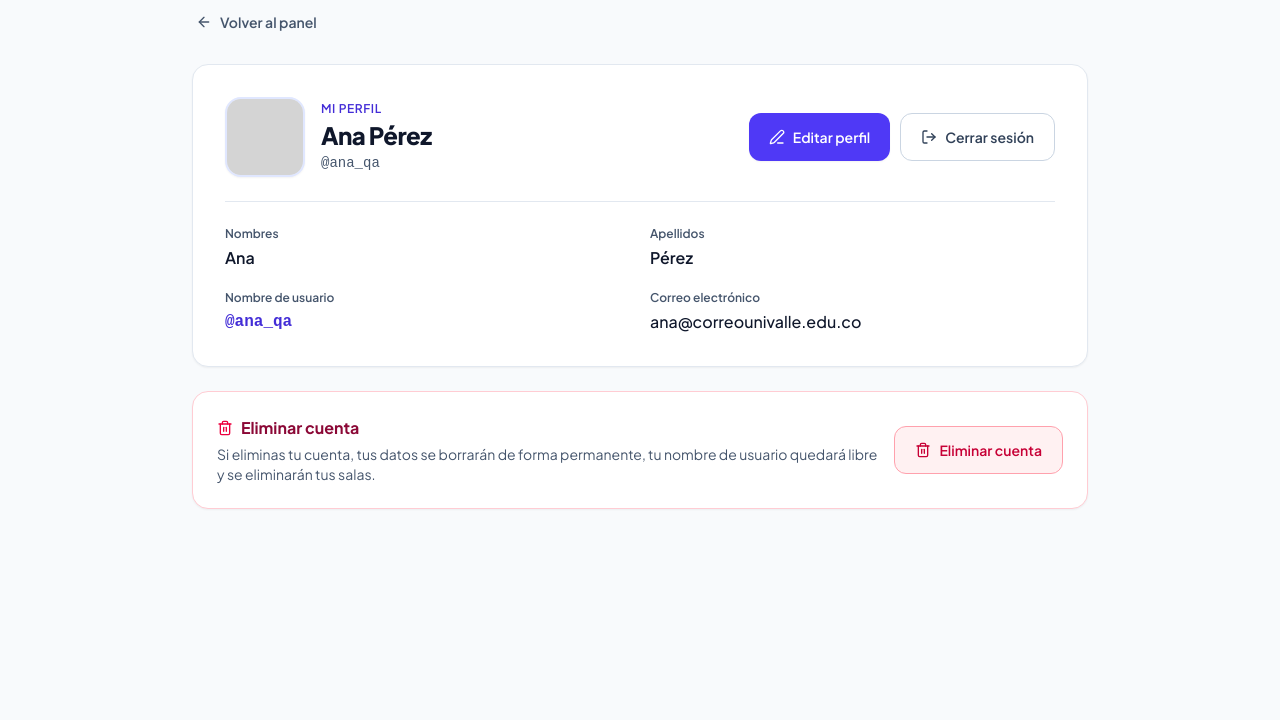
Test: US-04 | E1 | edición exitosa › al cambiar el correo renueva el token de la sesión
Click the button "Editar perfil". click: (820, 137)
box: [749,113,890,161]
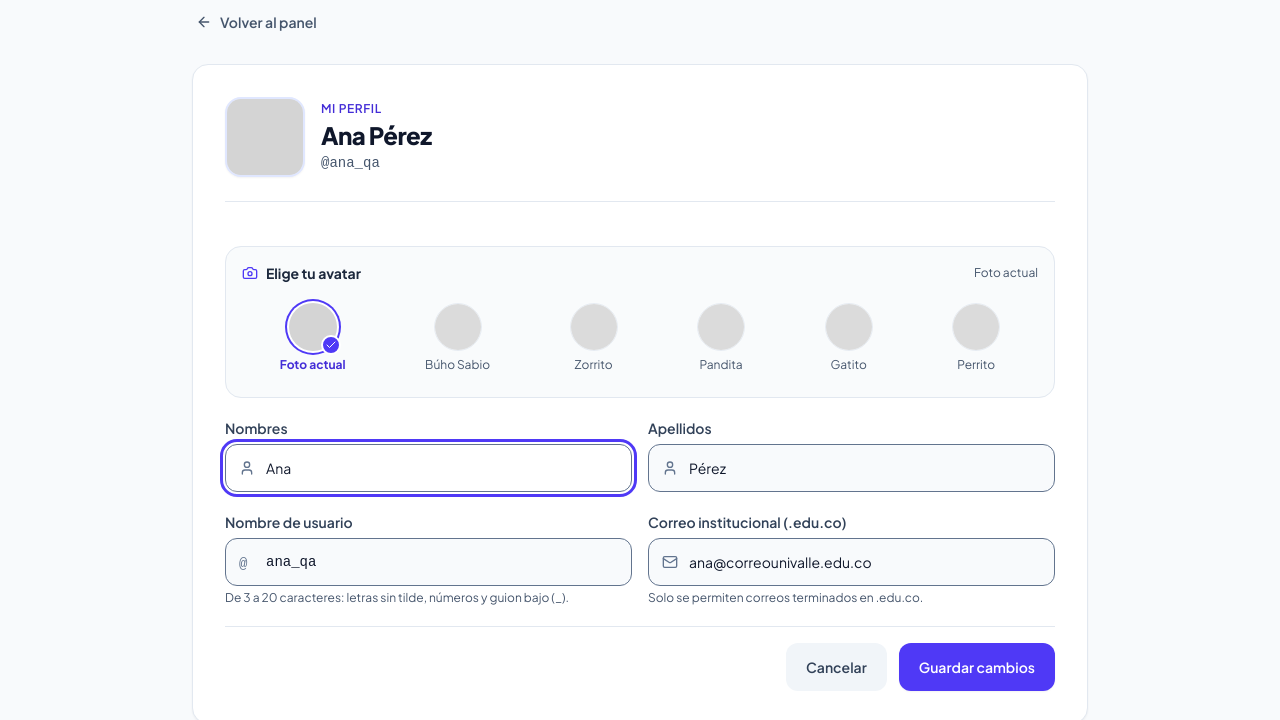
Replace the text in the field labelled "Correo institucional (.edu.co)" with "Ana.Nueva@correounivalle.edu.co". click: (852, 562)
box: [648,538,1055,586]
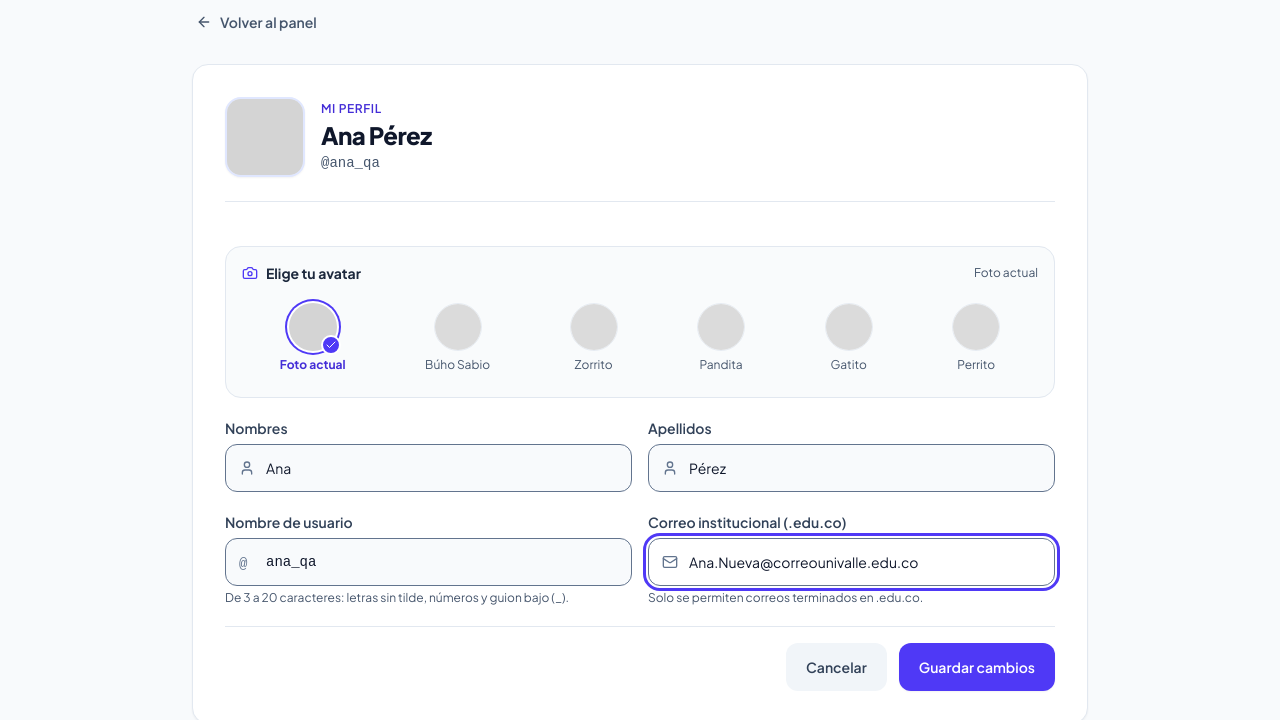
Click the button "Guardar cambios". click: (977, 667)
box: [899,643,1055,691]
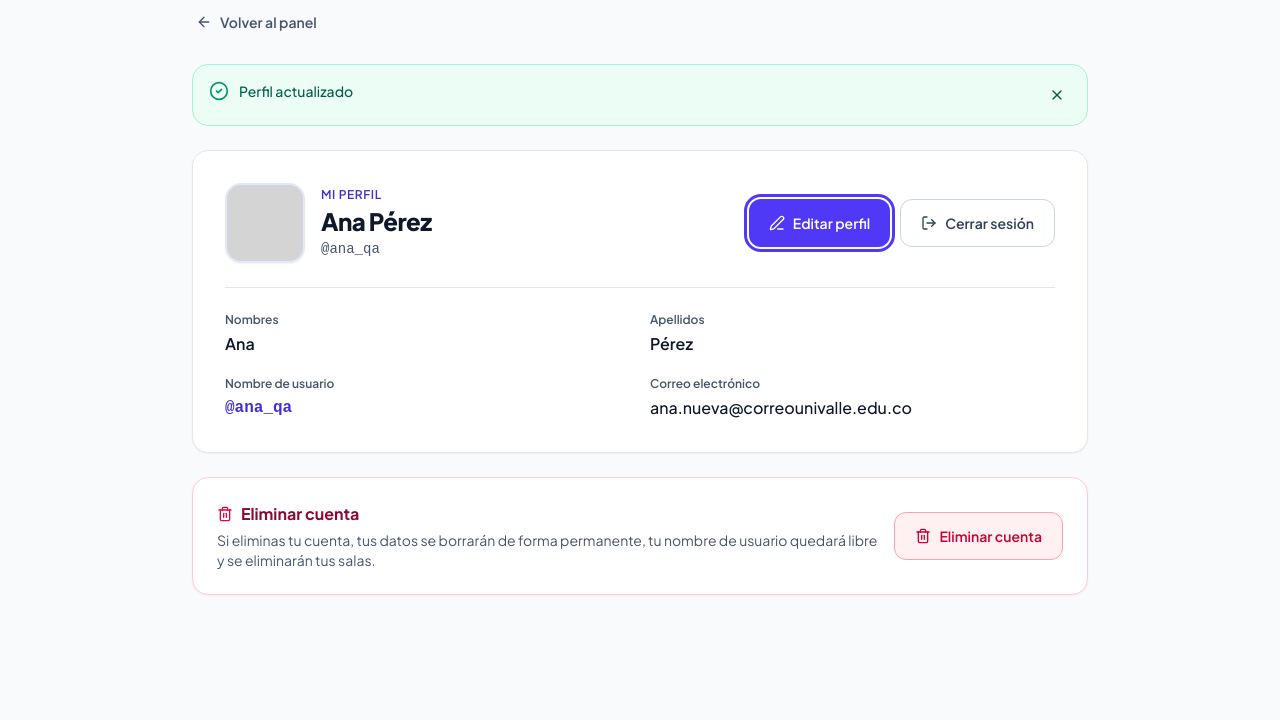
Expected: the text "Perfil actualizado" is shown, [239,81,353,101]
